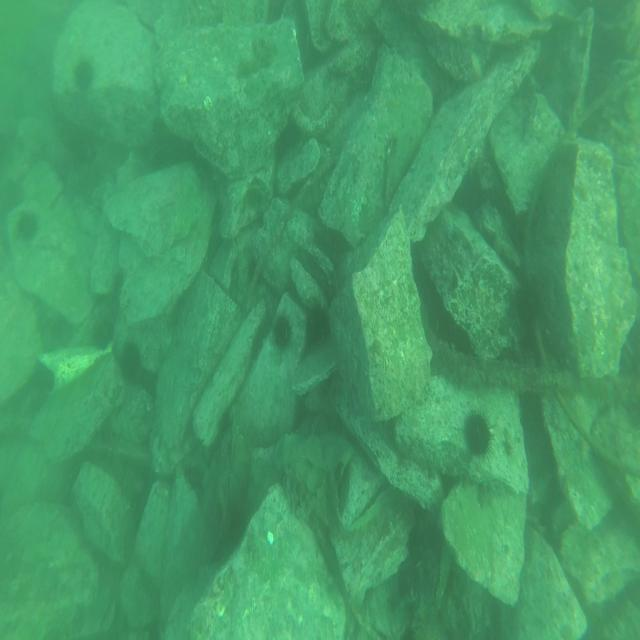echinus: (460, 403, 498, 469), (266, 304, 297, 361), (13, 202, 42, 245), (72, 52, 95, 92)
